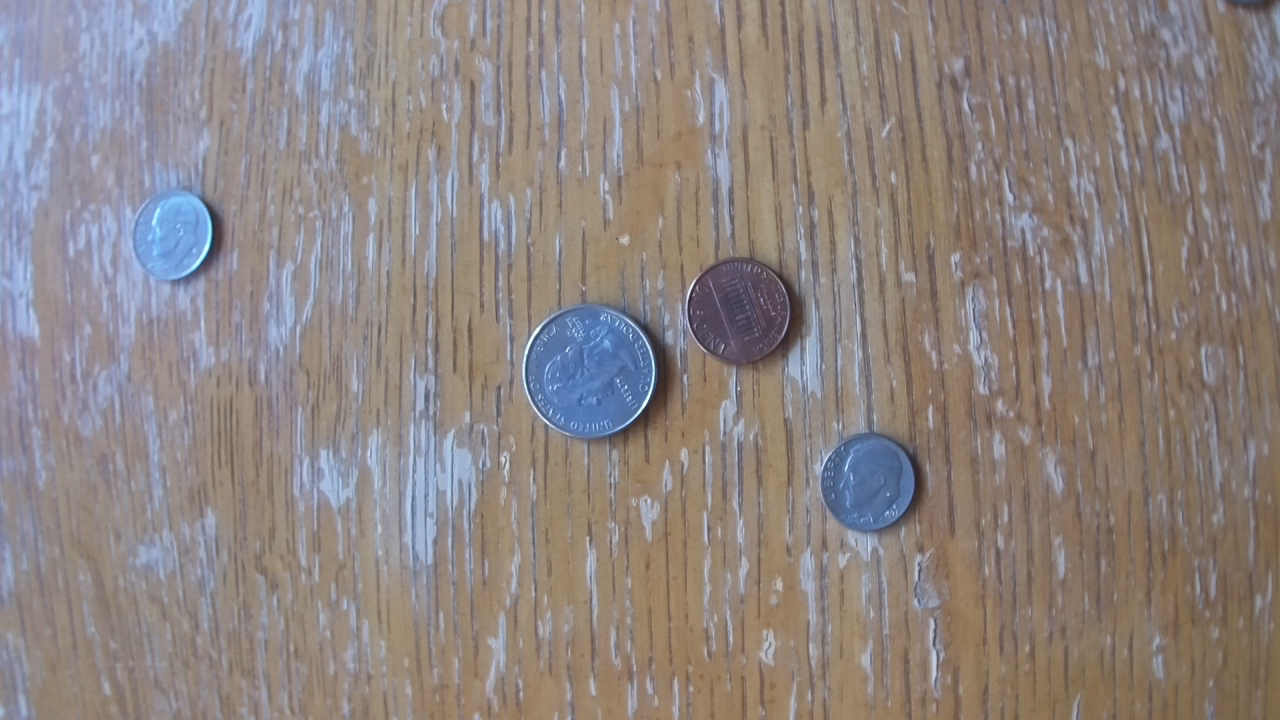dime: (820, 432, 917, 534), (131, 189, 215, 281)
penny: (688, 255, 793, 366)
quarter: (521, 302, 660, 440)
